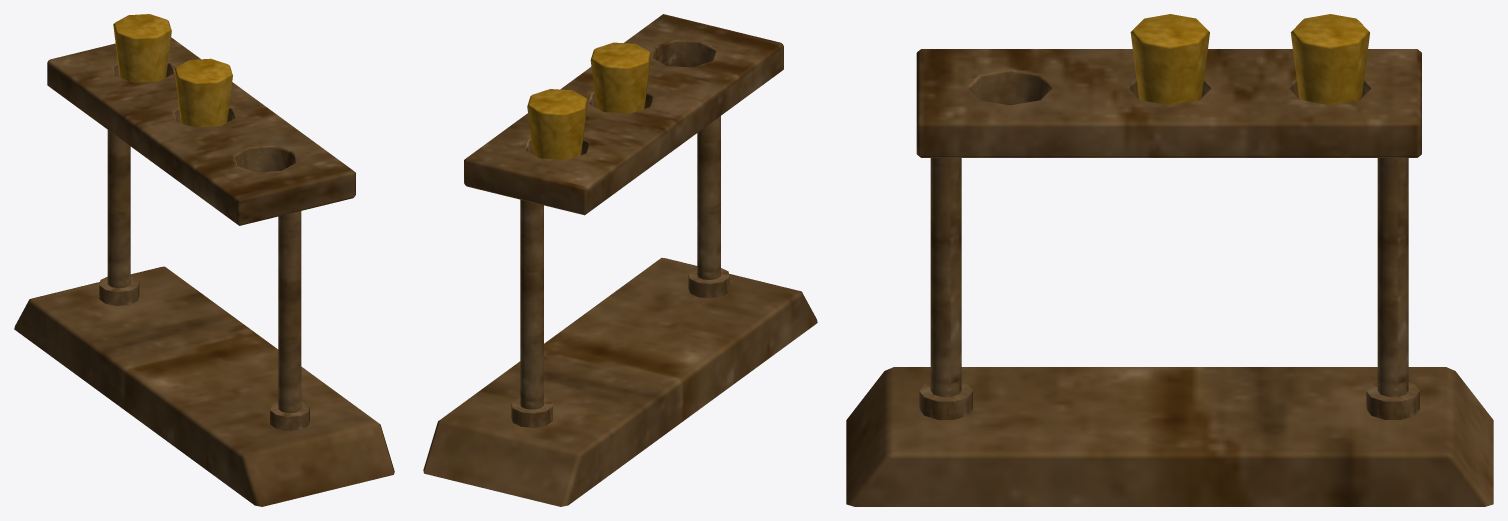
File: MagicPotion_4.fbx
3 views of the same model, side by side, from view 1: azimuth 30°, elevation 25°; view 2: azimuth 150°, elevation 25°; view 3: azimuth 270°, elevation 25° (orthographic). The views are drawn at different scales.
Parts seen in each view (by area): view 1: MagicPotion_4; view 2: MagicPotion_4; view 3: MagicPotion_4.
Boxes of the visible parts, <box> form: MagicPotion_4: <box>14,14,394,506</box>; MagicPotion_4: <box>423,14,817,506</box>; MagicPotion_4: <box>846,14,1493,506</box>.
Bounding box in the file's own units: 31.65 × 71.42 × 96.89.
